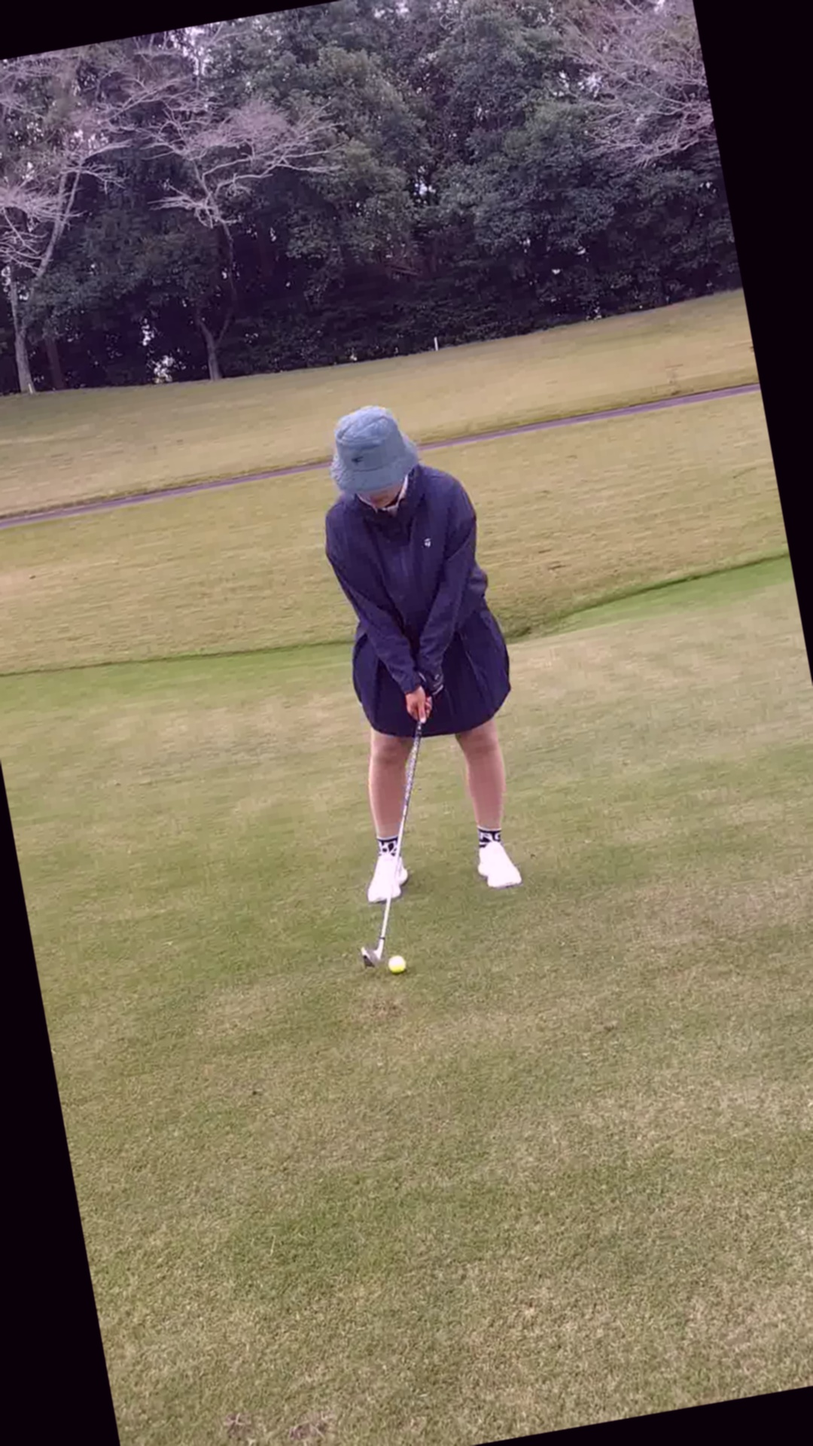clubhead: (278, 904, 479, 1017)
